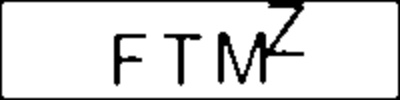F: (111, 29, 150, 88)
M: (214, 30, 272, 88)
T: (160, 29, 205, 92)
Z: (266, 1, 310, 60)
